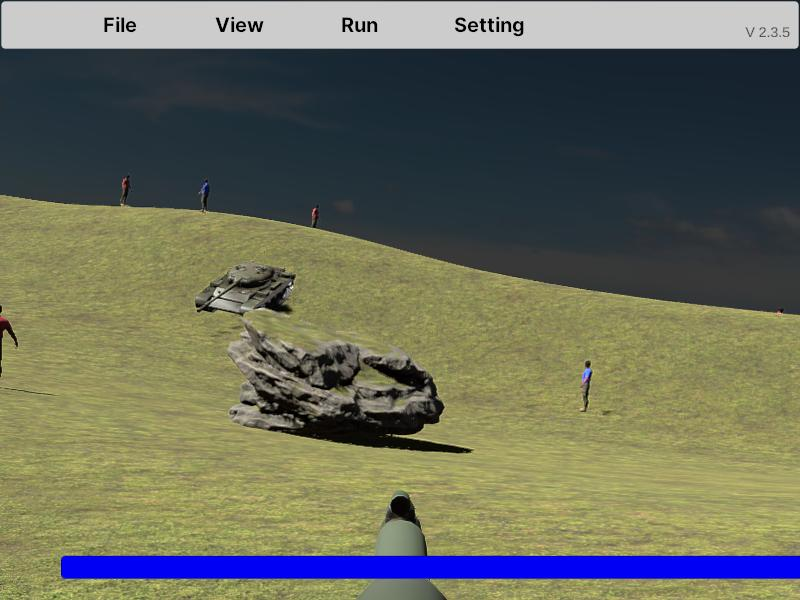Human: (0, 300, 18, 389), (579, 359, 592, 413)
Tank: (194, 261, 296, 316)
